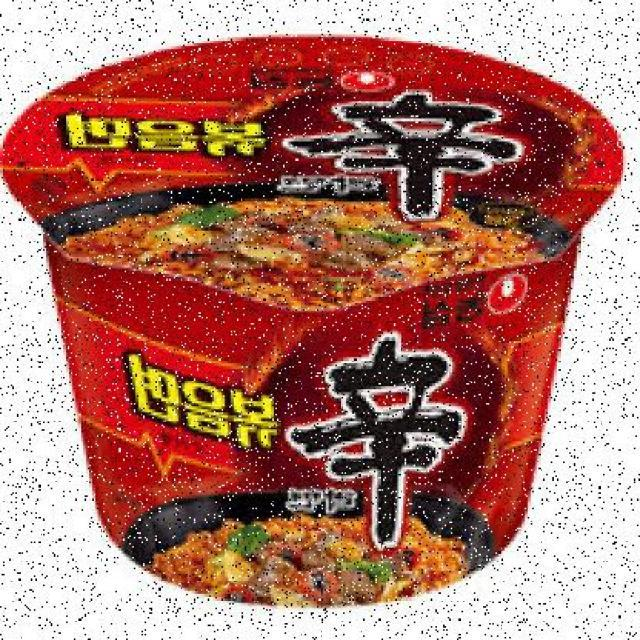Miscellaneous: (1, 33, 617, 590)
